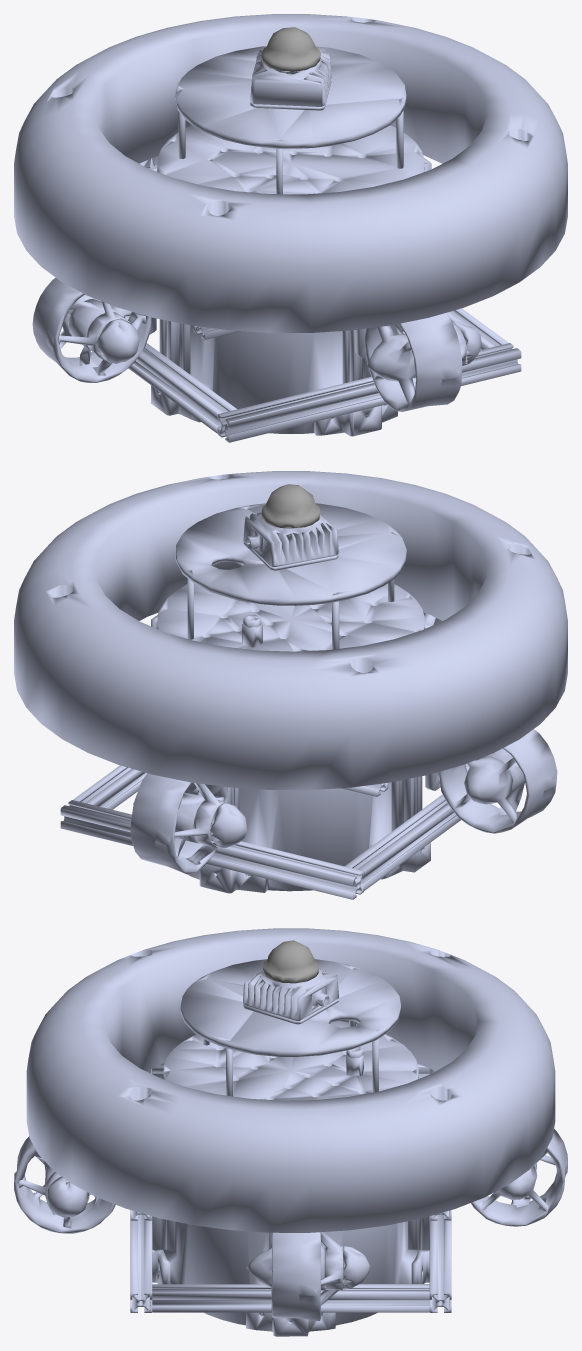
File: platform_phy.obj
3 views of the same model, one above another, from view 1: azimuth 30°, elevation 25°; view 2: azimuth 150°, elevation 25°; view 3: azimuth 270°, elevation 25° (orthographic). The views are drawn at different scales.
Size of the model in its own units: 50.29 by 33.61 by 50.29.
